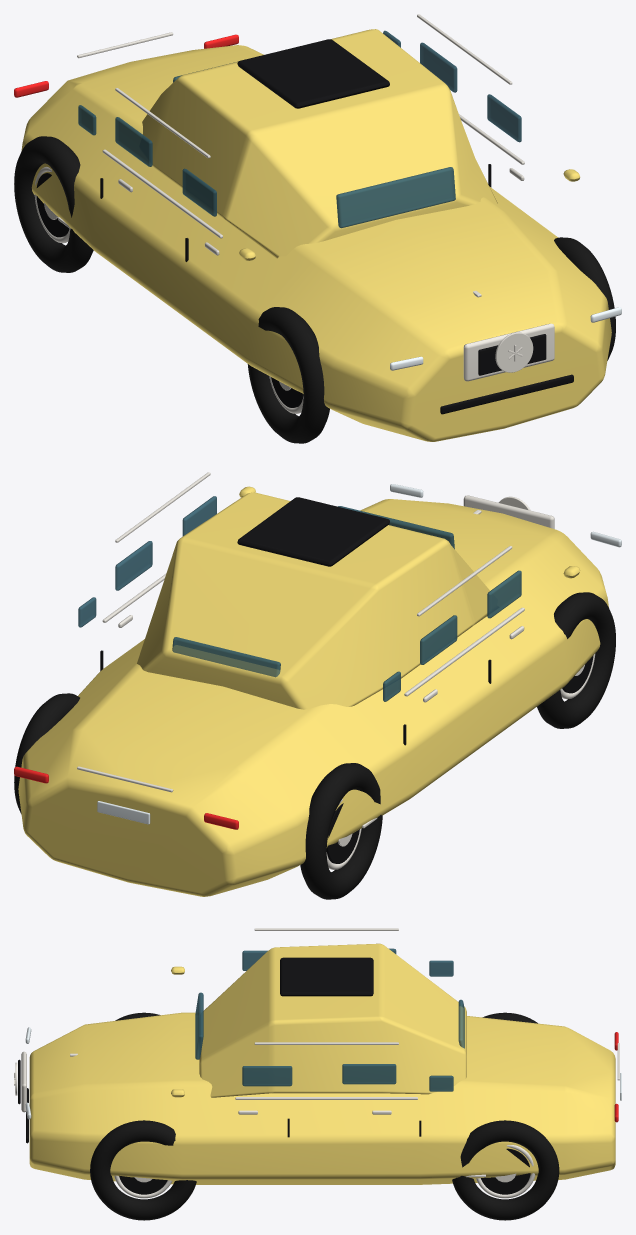
Rendered from vehicle-mercedes-e.glb.
The picture shows the model from 3 angles, top to bottom: view 1: azimuth 30°, elevation 25°; view 2: azimuth 150°, elevation 25°; view 3: azimuth 270°, elevation 25°; orthographic projection. The views are drawn at different scales.
Parts seen in each view (by area): view 1: body, cabin-greenhouse, panoramic-roof, front-right-tire, back-right-tire, front-windshield, front-grille-chrome-frame, front-left-tire, front-lower-intake, front-star-style-badge, left-rear-side-glass, right-front-side-glass (+5 smaller); view 2: body, cabin-greenhouse, panoramic-roof, back-right-tire, front-right-tire, rear-windshield, back-left-tire, front-grille-chrome-frame, right-rear-side-glass, left-rear-side-glass, left-front-side-glass, back-right-disc (+4 smaller); view 3: body, cabin-greenhouse, back-left-tire, front-left-tire, panoramic-roof, right-rear-side-glass, right-front-side-glass, back-left-disc, front-left-disc, right-chrome-window-surround, front-windshield, back-left-rim (+4 smaller).
Boxes of the visible parts, x1,y1,x2,y2 form: body: (21,45,611,441); cabin-greenhouse: (142,29,497,258); panoramic-roof: (237,39,389,108); front-right-tire: (247,307,329,443); back-right-tire: (14,136,93,272); front-windshield: (336,167,455,228); front-grille-chrome-frame: (463,323,554,381); front-left-tire: (554,237,615,360); front-lower-intake: (440,374,573,414); front-star-style-badge: (495,332,533,372); left-rear-side-glass: (115,117,152,166); right-front-side-glass: (487,94,521,142); body: (18,499,608,896); cabin-greenhouse: (137,492,489,709); panoramic-roof: (237,497,389,566); back-right-tire: (300,763,382,899); front-right-tire: (537,592,615,728); rear-windshield: (172,637,280,677); back-left-tire: (14,693,79,814); front-grille-chrome-frame: (463,495,554,528); right-rear-side-glass: (115,541,152,590); left-rear-side-glass: (420,615,457,664); left-front-side-glass: (487,570,521,618); back-right-disc: (326,803,359,863); body: (29,1012,615,1184); cabin-greenhouse: (199,943,466,1097); back-left-tire: (452,1120,559,1220); front-left-tire: (90,1120,196,1220); panoramic-roof: (280,957,373,996); right-rear-side-glass: (342,1064,396,1084); right-front-side-glass: (242,1066,292,1086); back-left-disc: (481,1148,530,1194); front-left-disc: (119,1175,167,1194); right-chrome-window-surround: (235,1097,417,1099); front-windshield: (195,992,203,1059); back-left-rim: (476,1145,535,1198).
Size of the model in its own units: 1.41 by 0.992 by 2.86.
